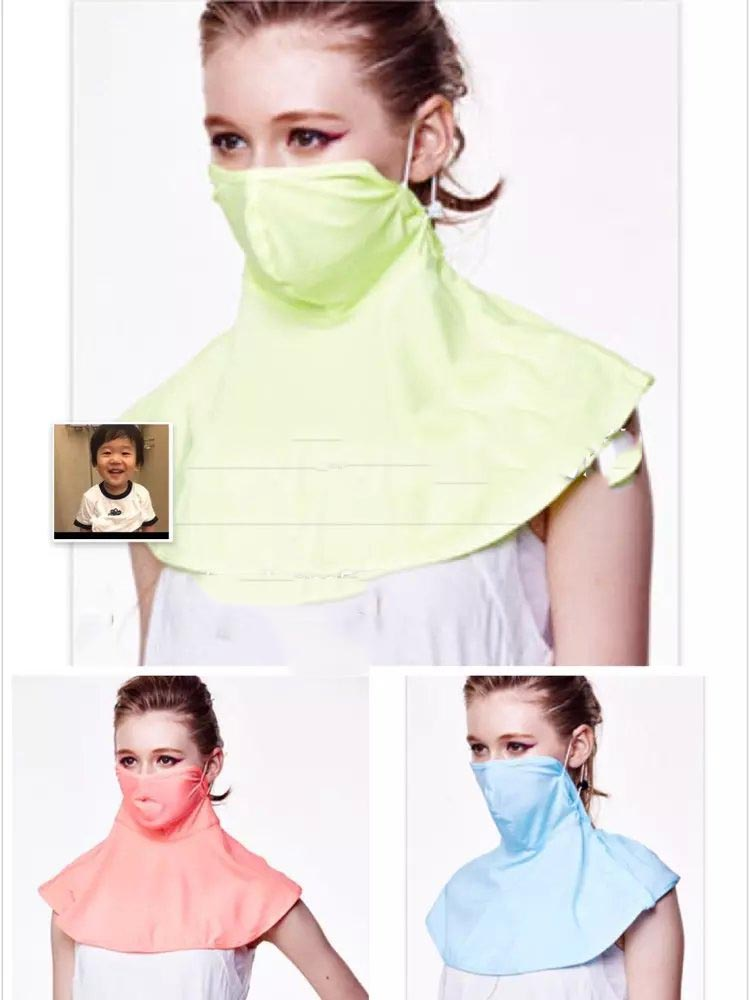face: (97, 433, 134, 485)
face_mask: (204, 10, 396, 299), (465, 687, 564, 844), (116, 712, 198, 829)
